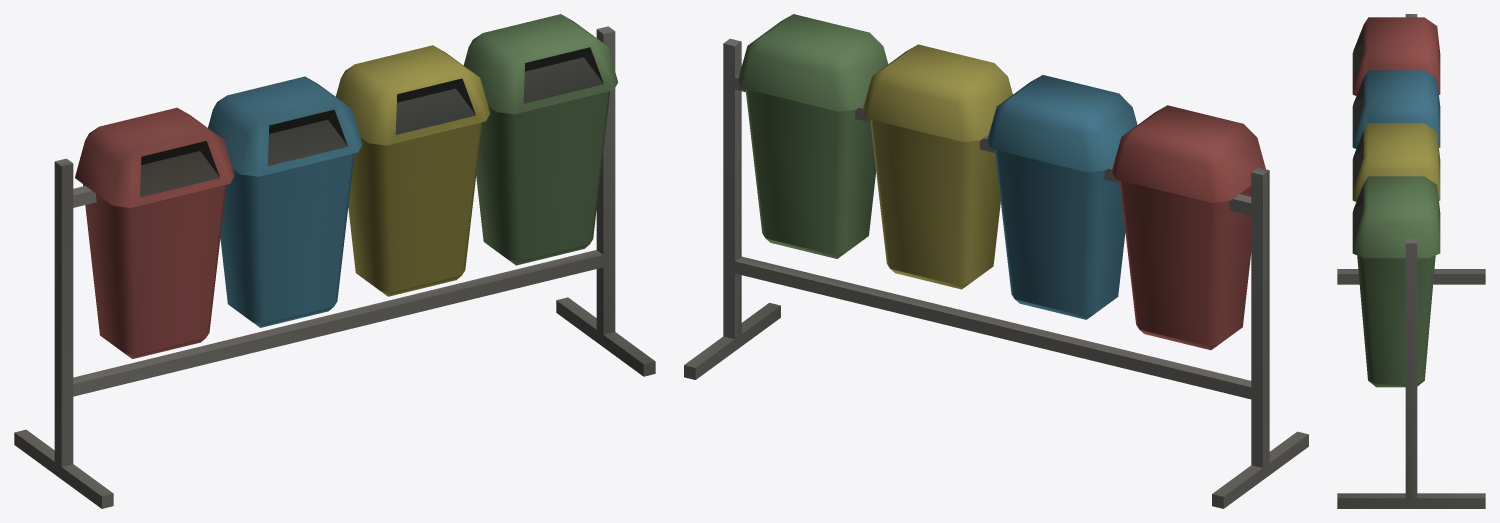
The model's file is ct_trash.glb.
3 views of the same model, side by side, from view 1: azimuth 30°, elevation 25°; view 2: azimuth 150°, elevation 25°; view 3: azimuth 270°, elevation 25° (orthographic). The views are drawn at different scales.
Parts seen in each view (by area): view 1: ct_trash; view 2: ct_trash; view 3: ct_trash.
Part boxes in pixels (x1,y1,x2,y2): ct_trash: [14, 14, 655, 508]; ct_trash: [684, 14, 1308, 508]; ct_trash: [1337, 14, 1485, 508].
Bounding box in the file's own units: 2.16 × 1.24 × 0.5924.
